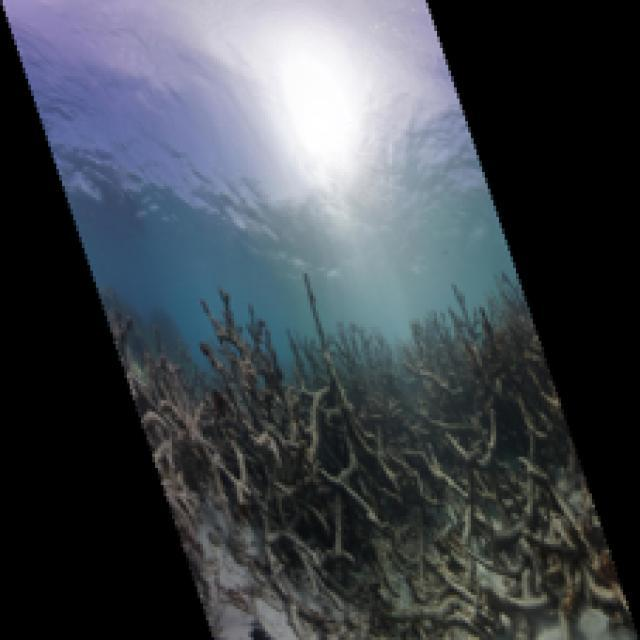Dead Coral: (158, 323, 398, 595), (386, 279, 566, 547)
